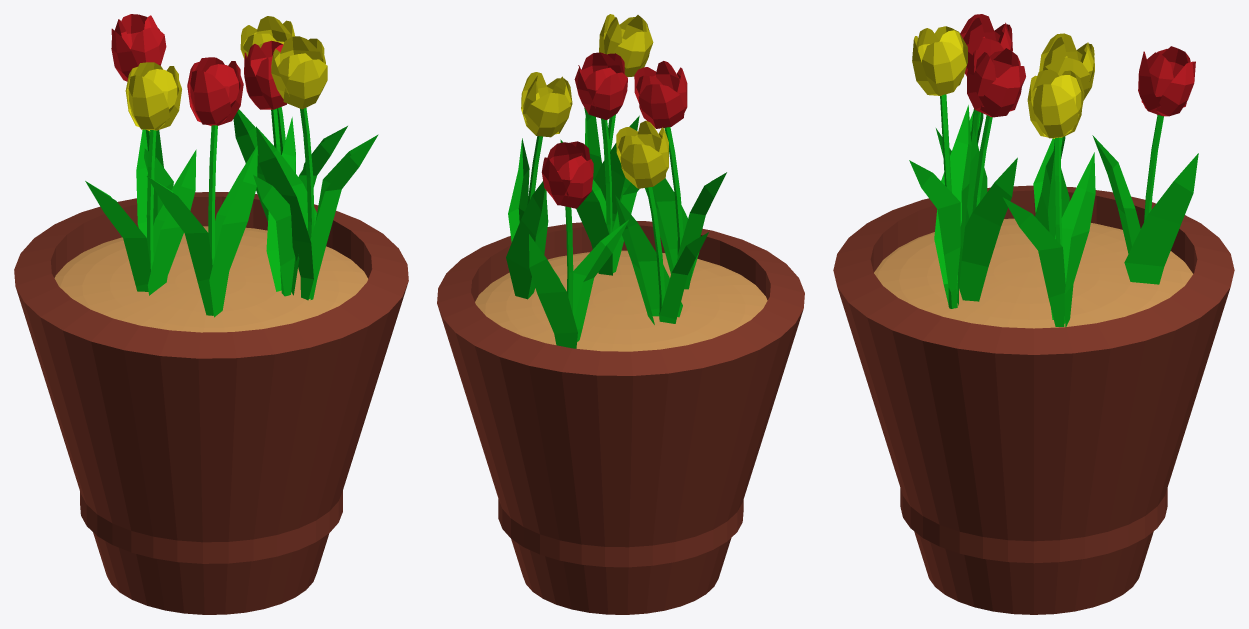
Rendered from p1tulip.fbx.
The picture shows the model from 3 angles, left to right: view 1: azimuth 30°, elevation 25°; view 2: azimuth 150°, elevation 25°; view 3: azimuth 270°, elevation 25°; orthographic projection. The views are drawn at different scales.
Visible parts, largest first — view 1: Cylinder, Sphere, tulip_alutaroma_02.001, tulip_alutaroma_02.004, tulip_alutaroma_02, tulip_alutaroma_02.005, tulip_alutaroma_02.003, tulip_alutaroma_02.002; view 2: Cylinder, Sphere, tulip_alutaroma_02.003, tulip_alutaroma_02, tulip_alutaroma_02.002, tulip_alutaroma_02.004, tulip_alutaroma_02.005, tulip_alutaroma_02.001; view 3: Cylinder, Sphere, tulip_alutaroma_02.003, tulip_alutaroma_02.002, tulip_alutaroma_02.001, tulip_alutaroma_02.005, tulip_alutaroma_02, tulip_alutaroma_02.004.
Part boxes in pixels (x1,y1,x2,y2): Cylinder: [14, 192, 408, 614]; Sphere: [54, 226, 367, 332]; tulip_alutaroma_02.001: [256, 36, 378, 300]; tulip_alutaroma_02.004: [147, 57, 257, 317]; tulip_alutaroma_02: [85, 62, 196, 295]; tulip_alutaroma_02.005: [244, 40, 299, 296]; tulip_alutaroma_02.003: [111, 14, 173, 237]; tulip_alutaroma_02.002: [233, 16, 347, 221]; Cylinder: [437, 221, 804, 614]; Sphere: [475, 250, 767, 351]; tulip_alutaroma_02.003: [529, 141, 628, 348]; tulip_alutaroma_02: [615, 120, 708, 324]; tulip_alutaroma_02.002: [506, 72, 572, 299]; tulip_alutaroma_02.004: [634, 61, 726, 289]; tulip_alutaroma_02.005: [560, 52, 639, 275]; tulip_alutaroma_02.001: [584, 14, 653, 221]; Cylinder: [833, 185, 1234, 614]; Sphere: [874, 218, 1192, 328]; tulip_alutaroma_02.003: [1092, 46, 1198, 284]; tulip_alutaroma_02.002: [1003, 69, 1095, 327]; tulip_alutaroma_02.001: [909, 26, 971, 308]; tulip_alutaroma_02.005: [936, 48, 1025, 301]; tulip_alutaroma_02: [1033, 33, 1094, 237]; tulip_alutaroma_02.004: [960, 14, 1012, 217].
Size of the model in its own units: 243 by 375 by 243.
